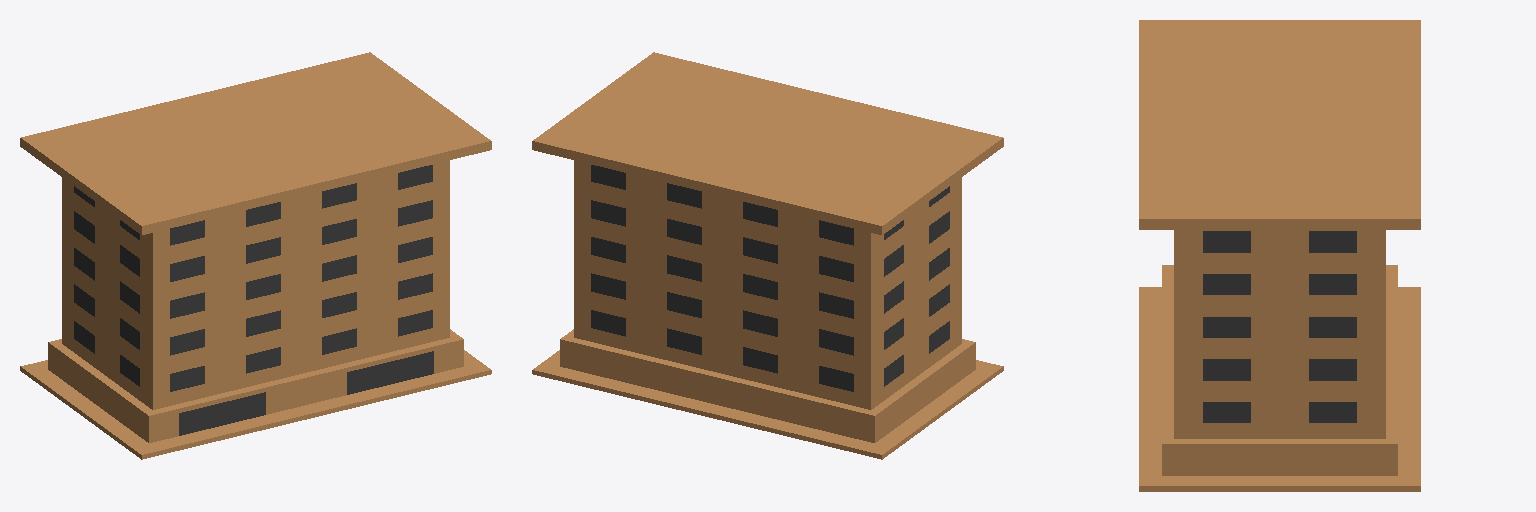
robot.urdf — building_2:
<?xml version="1.0"?> 

<!-- Copyright 2023 [author] -->

<!-- Licensed under the Apache License, Version 2.0 (the "License"); -->
<!-- you may not use this file except in compliance with the License. -->
<!-- You may obtain a copy of the License at -->

<!--     http://www.apache.org/licenses/LICENSE-2.0 -->

<!-- Unless required by applicable law or agreed to in writing, software -->
<!-- distributed under the License is distributed on an "AS IS" BASIS, -->
<!-- WITHOUT WARRANTIES OR CONDITIONS OF ANY KIND, either express or implied. -->
<!-- See the License for the specific language governing permissions and -->
<!-- limitations under the License. -->

<!-- Authors: [author], [author] -->

<robot name="building_2">
    <link name="building_2">
        <visual>
            <origin xyz="0 0 0" rpy="0 0 0" />
            <geometry>
                <mesh filename='meshes/building_2.stl' scale='0.1 0.1 0.05' />
            </geometry>
            <material name="lightbrown">
                <color rgba="0.8 0.6 0.4 1"/>
            </material>
        </visual>
        <collision>
            <origin xyz="0 0 0" rpy="0 0 0" />
            <geometry>
                <mesh filename='meshes/building_2.stl' scale='0.1 0.1 0.05' />
            </geometry>
        </collision>
        <inertial>
            <mass value="10"/>
            <inertia ixx="0.4" ixy="0.0" ixz="0.0" iyy="0.4" iyz="0.0" izz="0.2" />
        </inertial>
    </link>
    <link name="windows">
        <visual>
            <origin xyz="0 0 0" rpy="0 0 0" />
            <geometry>
                <mesh filename='meshes/building_2windows.stl' scale='0.1 0.1 0.05'/>
            </geometry>
            <material name="black">
                <color rgba="0.3 0.3 0.3 1"/>
            </material>
        </visual>
        <collision>
            <origin xyz="0 0 0" rpy="0 0 0" />
            <geometry>
                <mesh filename='meshes/building_2windows.stl' scale='0.1 0.1 0.05'/>
            </geometry>
        </collision>
        <inertial>
            <mass value="10"/>
            <inertia ixx="0.4" ixy="0.0" ixz="0.0" iyy="0.4" iyz="0.0" izz="0.2" />
        </inertial>
    </link>
    <joint name="window" type="fixed">
        <origin rpy="0 0 0" xyz="0 0 0"/>
        <parent link="building_2"/>
        <child link="windows"/>
    </joint>
    <link name="doors">
        <visual>
            <origin xyz="0 0 0" rpy="0 0 0" />
            <geometry>
                <mesh filename='meshes/building_2doors.stl' scale='0.1 0.1 0.05'/>
            </geometry>
            <material name="black">
                <color rgba="0.3 0.3 0.3 1"/>
            </material>
        </visual>
        <collision>
            <origin xyz="0 0 0" rpy="0 0 0" />
            <geometry>
                <mesh filename='meshes/building_2doors.stl' scale='0.1 0.1 0.05'/>
            </geometry>
        </collision>
        <inertial>
            <mass value="10"/>
            <inertia ixx="0.4" ixy="0.0" ixz="0.0" iyy="0.4" iyz="0.0" izz="0.2" />
        </inertial>
    </link>
    <joint name="door" type="fixed">
        <origin rpy="0 0 0" xyz="0 -0.25 0"/>
        <parent link="building_2"/>
        <child link="doors"/>
        <axis xyz="-1 0 0"/>
    </joint>
</robot>

--- Facts derived from the render (not from the file) ---
3 views of the same robot in one strip: view 1: azimuth 30°, elevation 25°; view 2: azimuth 150°, elevation 25°; view 3: azimuth 270°, elevation 25° (orthographic).
Model building_2 with 3 links and 2 joints (2 fixed), rooted at building_2, posed every joint at zero.
Visible links, largest first — view 1: building_2, windows, doors; view 2: building_2, windows; view 3: building_2, windows.
Boxes of the visible links, x1,y1,x2,y2 form: building_2: (20, 52, 491, 459); windows: (74, 165, 432, 391); doors: (179, 351, 433, 435); building_2: (532, 52, 1003, 459); windows: (591, 165, 949, 391); building_2: (1139, 20, 1420, 491); windows: (1203, 231, 1356, 422).
Bounding box of the posed robot: 10 × 6 × 6.38 m (x, y, z).
3 mesh visuals loaded from 3 distinct referenced files (3 binary STL).
